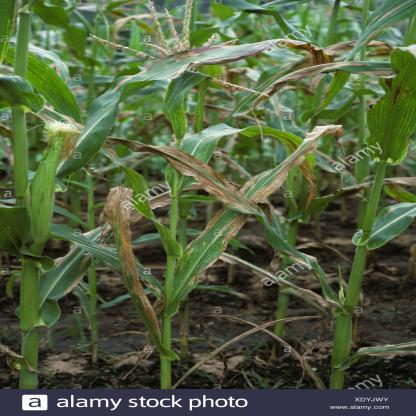Corn leaf blight: (111, 136, 350, 310), (64, 37, 326, 174), (172, 124, 350, 306), (106, 184, 170, 348), (245, 60, 398, 108)
